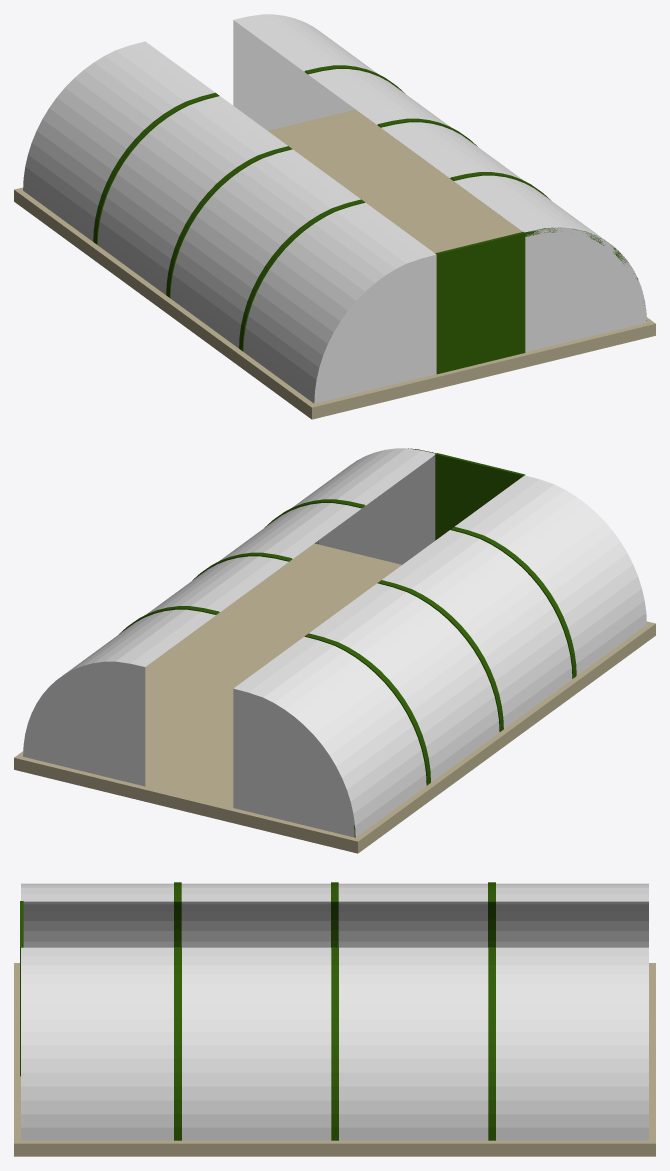
File: bike_shed.glb
3 renders of one model, top to bottom at view 1: azimuth 30°, elevation 25°; view 2: azimuth 150°, elevation 25°; view 3: azimuth 270°, elevation 25°, orthographic. The views are drawn at different scales.
Parts seen in each view (by area): view 1: Cylinder.002, Circle, Cube, Cube.001; view 2: Cylinder.002, Cube, Circle, Cube.001; view 3: Cylinder.002, Cube.
Boxes of the visible parts, <box> form: Cylinder.002: <box>23,14,605,403</box>; Circle: <box>233,20,646,403</box>; Cube: <box>14,109,655,419</box>; Cube.001: <box>435,231,525,374</box>; Cylinder.002: <box>64,448,646,837</box>; Cube: <box>14,543,655,853</box>; Circle: <box>23,455,435,837</box>; Cube.001: <box>435,453,525,540</box>; Cylinder.002: <box>21,882,648,1140</box>; Cube: <box>14,963,655,1156</box>.
Bounding box in the file's own units: 6 × 2.2 × 9.
